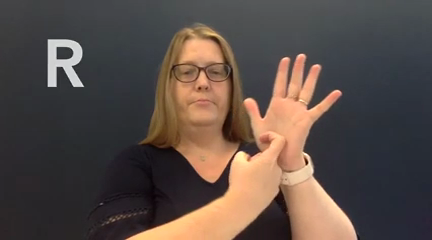R: (225, 52, 344, 220)
